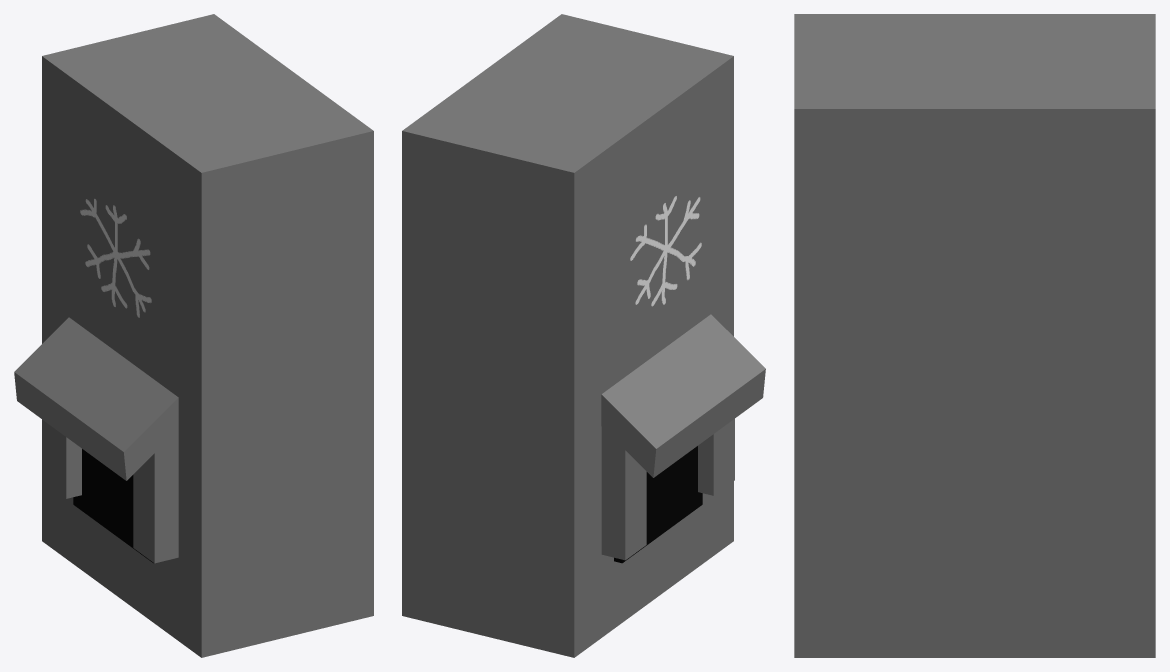
Rendered from icemachine.fbx.
3 views of the same model, side by side, from view 1: azimuth 30°, elevation 25°; view 2: azimuth 150°, elevation 25°; view 3: azimuth 270°, elevation 25° (orthographic). The views are drawn at different scales.
Parts seen in each view (by area): view 1: Cube__4_, ICE, Cube__3_, Cube__2_, Cube, Cube__1_, ICE__1_; view 2: Cube__4_, ICE, Cube__3_, Cube__1_, Cube, Cube__2_, ICE__1_; view 3: Cube__4_.
Part boxes in pixels (left/top/right/bottom): Cube__4_: left=42, top=14, right=373, bottom=657; ICE: left=57, top=129, right=184, bottom=384; Cube__3_: left=14, top=317, right=178, bottom=480; Cube__2_: left=133, top=429, right=178, bottom=563; Cube: left=73, top=449, right=153, bottom=563; Cube__1_: left=45, top=422, right=81, bottom=498; ICE__1_: left=80, top=198, right=151, bottom=317; Cube__4_: left=402, top=14, right=733, bottom=657; ICE: left=598, top=124, right=724, bottom=380; Cube__3_: left=601, top=314, right=765, bottom=477; Cube__1_: left=601, top=427, right=646, bottom=560; Cube: left=614, top=446, right=702, bottom=563; Cube__2_: left=698, top=419, right=734, bottom=495; ICE__1_: left=630, top=196, right=701, bottom=306; Cube__4_: left=794, top=14, right=1155, bottom=657.
Size of the model in its own units: 132 by 269 by 161.
3 materials, 1 textured.
